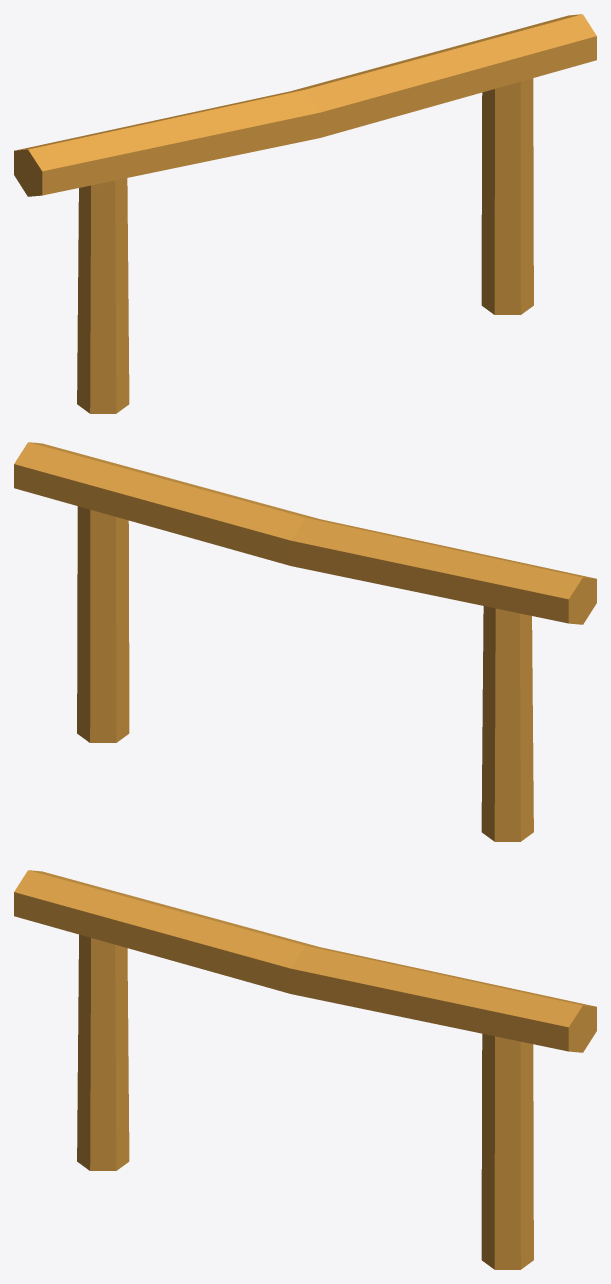
Rendered from horse-rest.fbx.
3 views of the same model, one above another, from view 1: azimuth 30°, elevation 25°; view 2: azimuth 150°, elevation 25°; view 3: azimuth 330°, elevation 25° (orthographic).
Visible parts, largest first — view 1: horse-rest; view 2: horse-rest; view 3: horse-rest.
Boxes of the visible parts, x1,y1,x2,y2 form: horse-rest: (14,14,596,413); horse-rest: (14,442,596,841); horse-rest: (14,870,596,1269).
Size of the model in its own units: 2.2 by 1.03 by 0.201.
